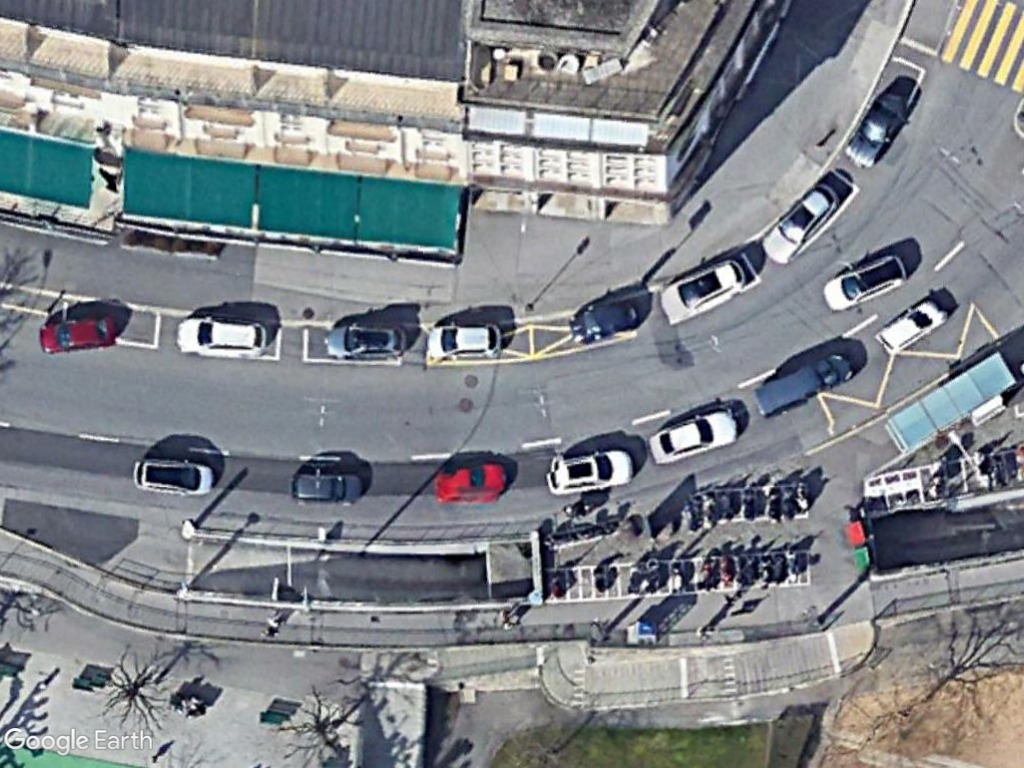car: (760, 184, 840, 268), (660, 256, 749, 326), (648, 403, 741, 467), (842, 88, 910, 170), (820, 251, 909, 313), (539, 446, 636, 496), (172, 313, 270, 361), (872, 297, 949, 356), (129, 454, 220, 500), (36, 313, 119, 358), (423, 320, 504, 363), (568, 296, 639, 345), (323, 322, 409, 361), (287, 466, 366, 507)
van: (750, 352, 856, 419)
